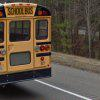Bus: (1, 1, 55, 83)
